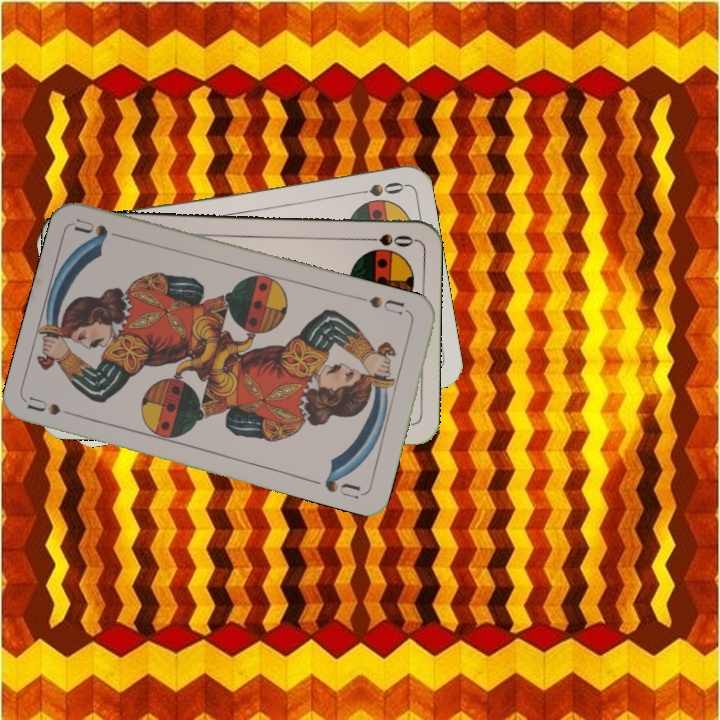SO: (347, 177, 406, 199), (357, 230, 416, 249)
SU: (25, 393, 84, 420), (355, 291, 413, 318)
